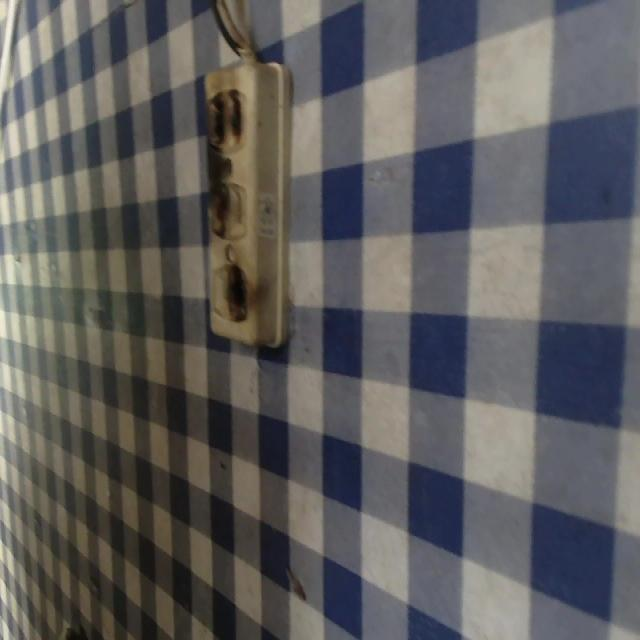-: (206, 86, 248, 150), (223, 260, 252, 323), (206, 179, 232, 237)
